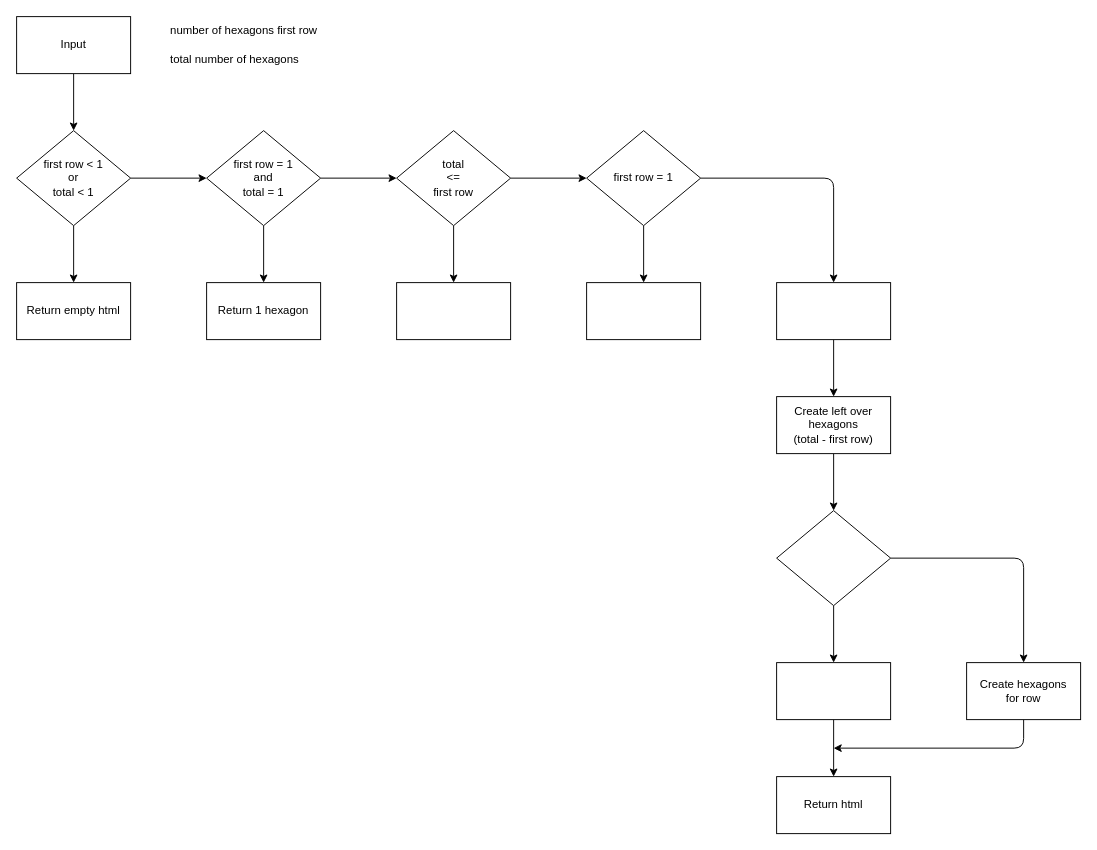
Image size: 1097x850. Some labels were removed from this diagram. Each missing label, with the centre of its shape:
"Create hexagons for first row" goes at point (833, 311).
"Create hexagons for indented row" goes at point (833, 691).
"Number of row is even" goes at point (833, 558).
"Return 1 hexagon per row, number of rows = total" goes at point (643, 311).
"Return hexagons (total) as one row" goes at point (453, 311).
